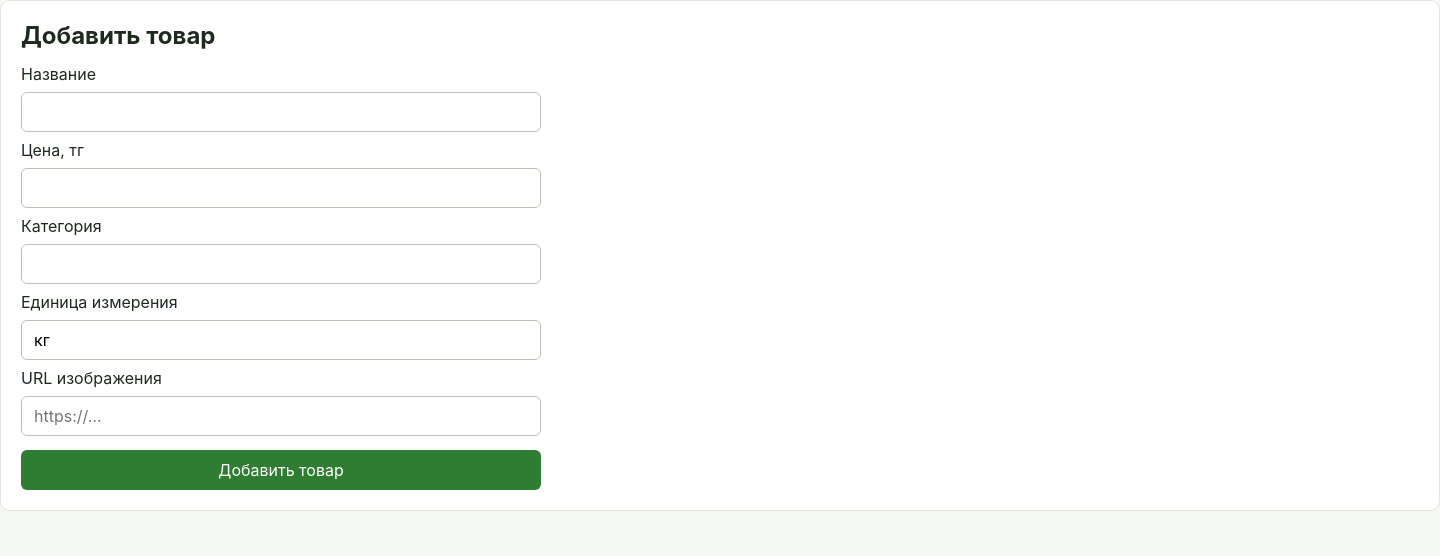
Scenario: AddProductForm › shows a negative price error on a normal submit without creating a product
This screenshot has width=1440, height=556.
Step 1. Type "Товар" into the field labelled "Название" → (281, 112), box [21,92,541,132]
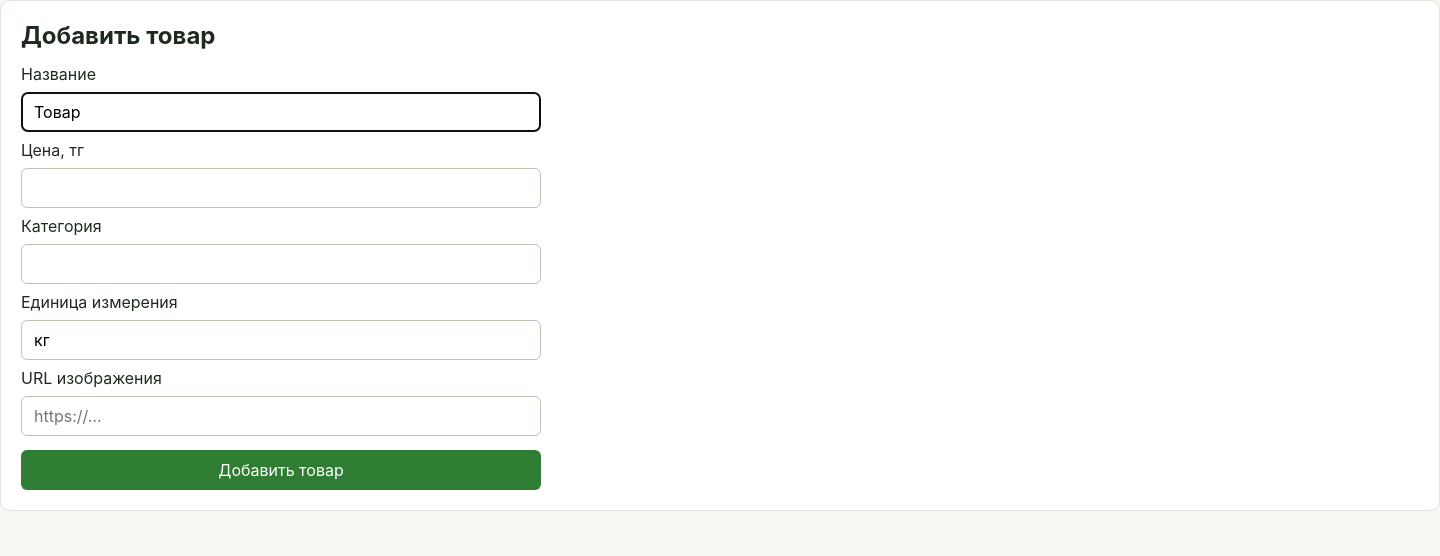
Step 2. Type "-500" into the number field labelled "Цена, тг" → (281, 188), box [21,168,541,208]
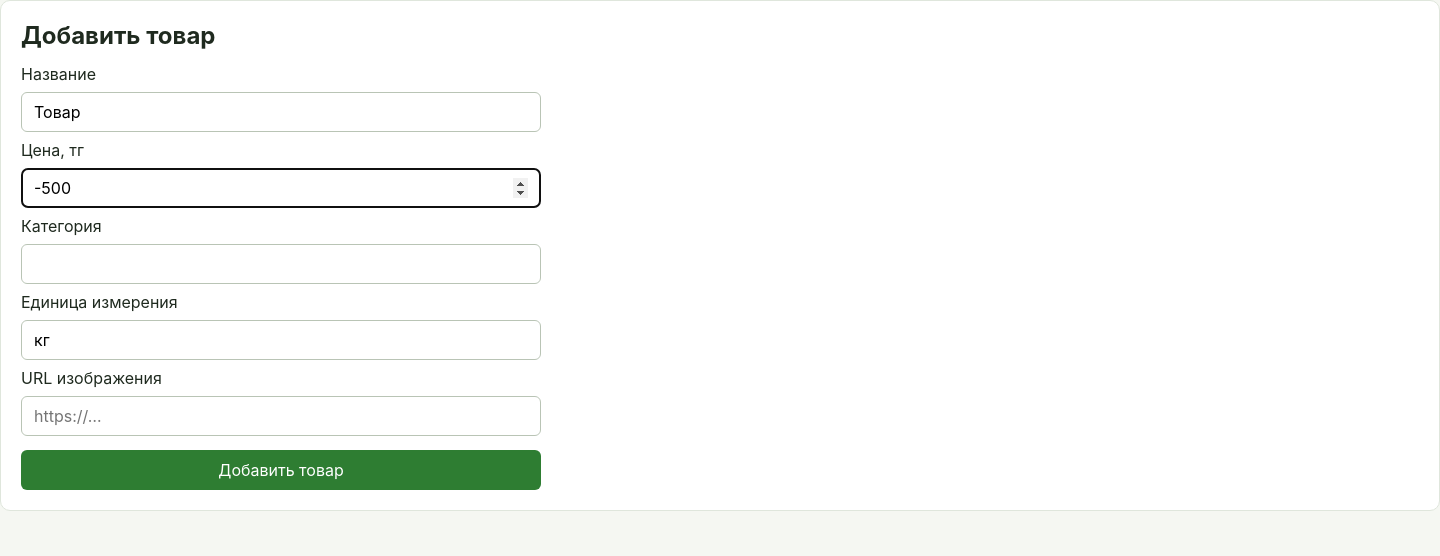
Step 3. Click the button "Добавить товар" → (281, 470), box [21,450,541,490]
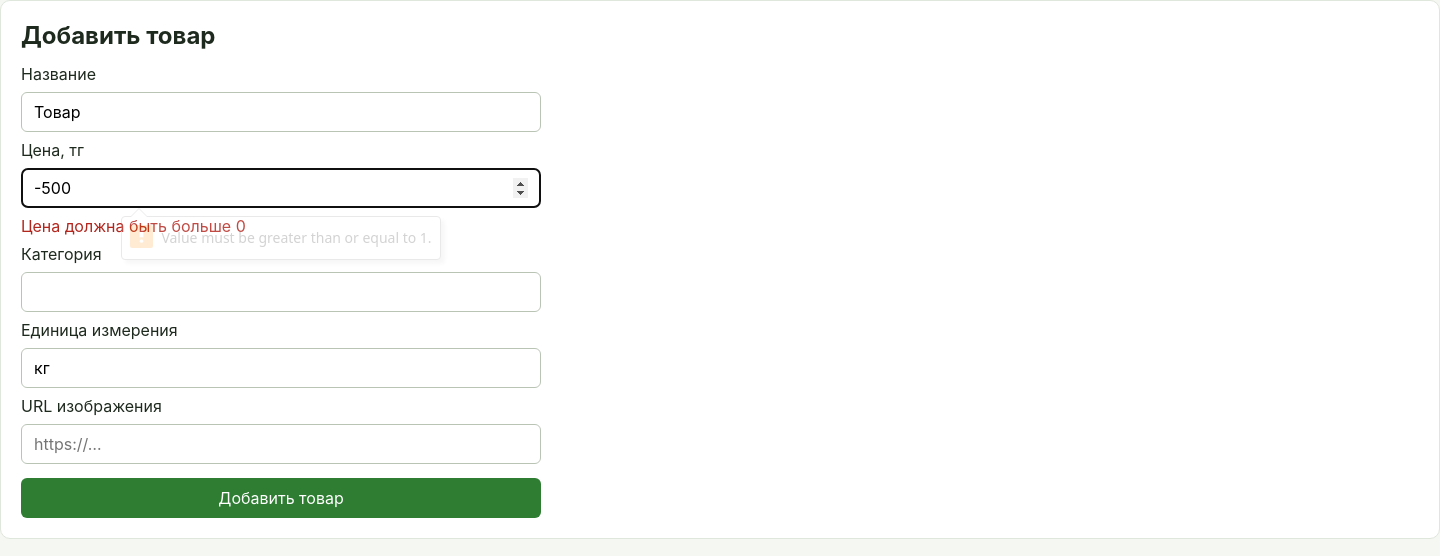
Result: the message reads "Цена должна быть больше 0" at [21,216,246,236]
